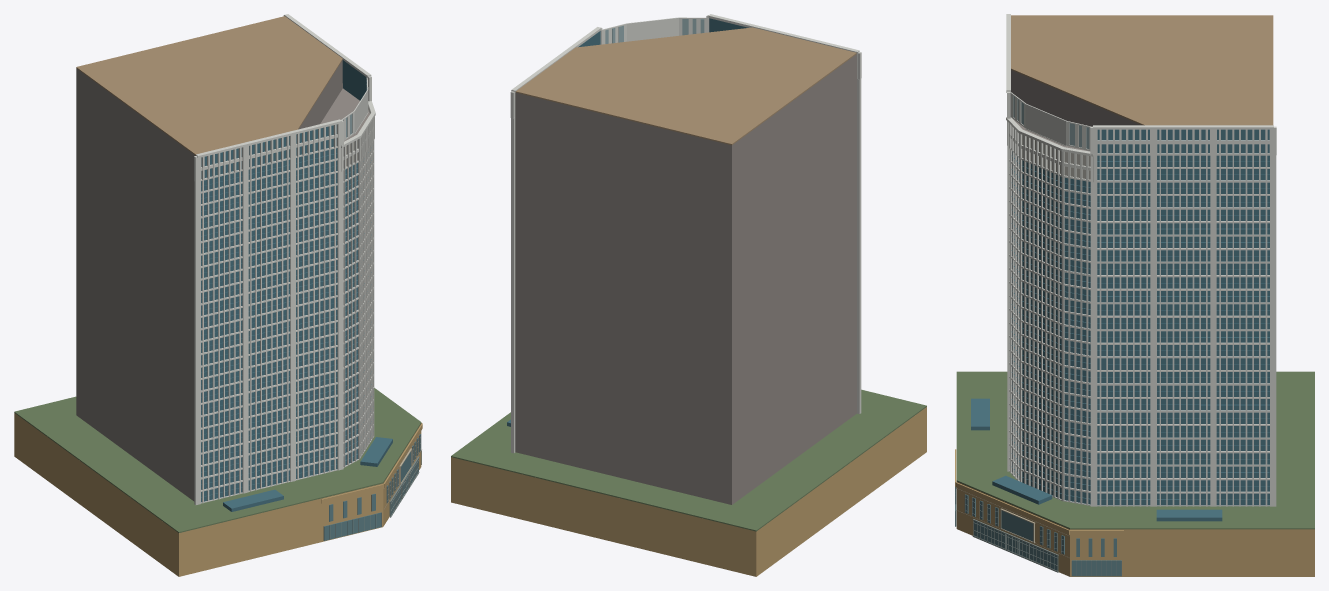
Rendered from light.glb.
3 renders of one model, left to right at view 1: azimuth 30°, elevation 25°; view 2: azimuth 150°, elevation 25°; view 3: azimuth 270°, elevation 25°, orthographic. The views are drawn at different scales.
Visible parts, largest first — view 1: KEEP_TOWER_Xinding_Observed_light_cladding, HOLD_unobserved_neutral, KEEP_TOWER_Xinding_Observed_blue_glass, HOLD_roof_geometry, H_podium_gold_appearance, Visible_terrace_simplified, H_podium_bluegray, H_podium_frame; view 2: HOLD_unobserved_neutral, HOLD_roof_geometry, H_podium_gold_appearance, Visible_terrace_simplified, KEEP_TOWER_Xinding_Observed_light_cladding; view 3: KEEP_TOWER_Xinding_Observed_light_cladding, KEEP_TOWER_Xinding_Observed_blue_glass, HOLD_roof_geometry, Visible_terrace_simplified, H_podium_gold_appearance, H_podium_bluegray, HOLD_unobserved_neutral, H_podium_frame, Observed_pale_crown_backing_uncertain.
Part boxes in pixels (<box>): KEEP_TOWER_Xinding_Observed_light_cladding: <box>194,14,375,504</box>; HOLD_unobserved_neutral: <box>76,60,369,501</box>; KEEP_TOWER_Xinding_Observed_blue_glass: <box>201,60,392,511</box>; HOLD_roof_geometry: <box>76,16,342,155</box>; H_podium_gold_appearance: <box>14,413,422,576</box>; Visible_terrace_simplified: <box>14,388,421,532</box>; H_podium_bluegray: <box>323,434,420,540</box>; H_podium_frame: <box>324,434,421,540</box>; HOLD_unobserved_neutral: <box>515,54,856,504</box>; HOLD_roof_geometry: <box>515,27,856,145</box>; H_podium_gold_appearance: <box>451,407,926,576</box>; Visible_terrace_simplified: <box>451,389,926,531</box>; KEEP_TOWER_Xinding_Observed_light_cladding: <box>510,14,861,453</box>; KEEP_TOWER_Xinding_Observed_light_cladding: <box>1006,14,1276,506</box>; KEEP_TOWER_Xinding_Observed_blue_glass: <box>971,129,1269,521</box>; HOLD_roof_geometry: <box>1011,15,1273,125</box>; Visible_terrace_simplified: <box>956,371,1314,529</box>; H_podium_gold_appearance: <box>955,449,1314,576</box>; H_podium_bluegray: <box>955,487,1121,576</box>; HOLD_unobserved_neutral: <box>1011,70,1141,151</box>; H_podium_frame: <box>955,487,1121,576</box>; Observed_pale_crown_backing_uncertain: <box>1022,135,1090,179</box>.
Bounding box in the file's own units: 62.27 × 79.22 × 60.27.
